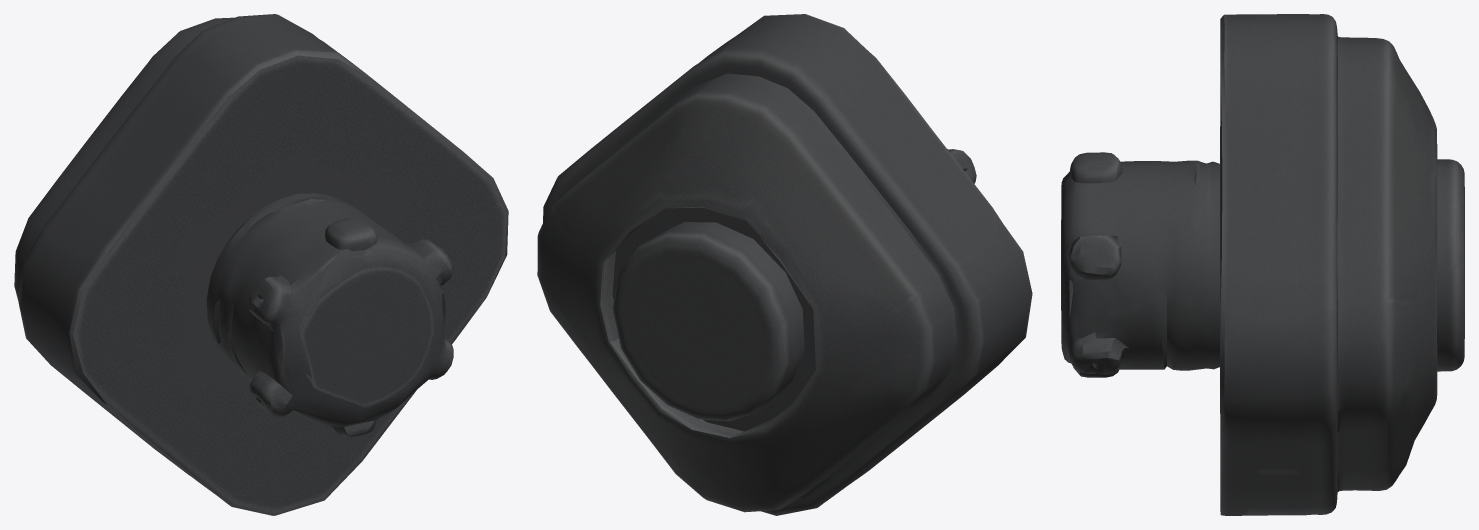
The model's file is wall_button_key.gltf.
The picture shows the model from 3 angles, left to right: view 1: azimuth 30°, elevation 25°; view 2: azimuth 150°, elevation 25°; view 3: azimuth 270°, elevation 25°; orthographic projection. The views are drawn at different scales.
Parts seen in each view (by area): view 1: Key; view 2: Key; view 3: Key.
Boxes of the visible parts, x1,y1,x2,y2 form: Key: (14, 14, 508, 515); Key: (537, 14, 1032, 515); Key: (1061, 14, 1464, 515).
Bounding box in the file's own units: 0.1 × 0.1001 × 0.0765.
Materials: 1 (1 with a texture image).
